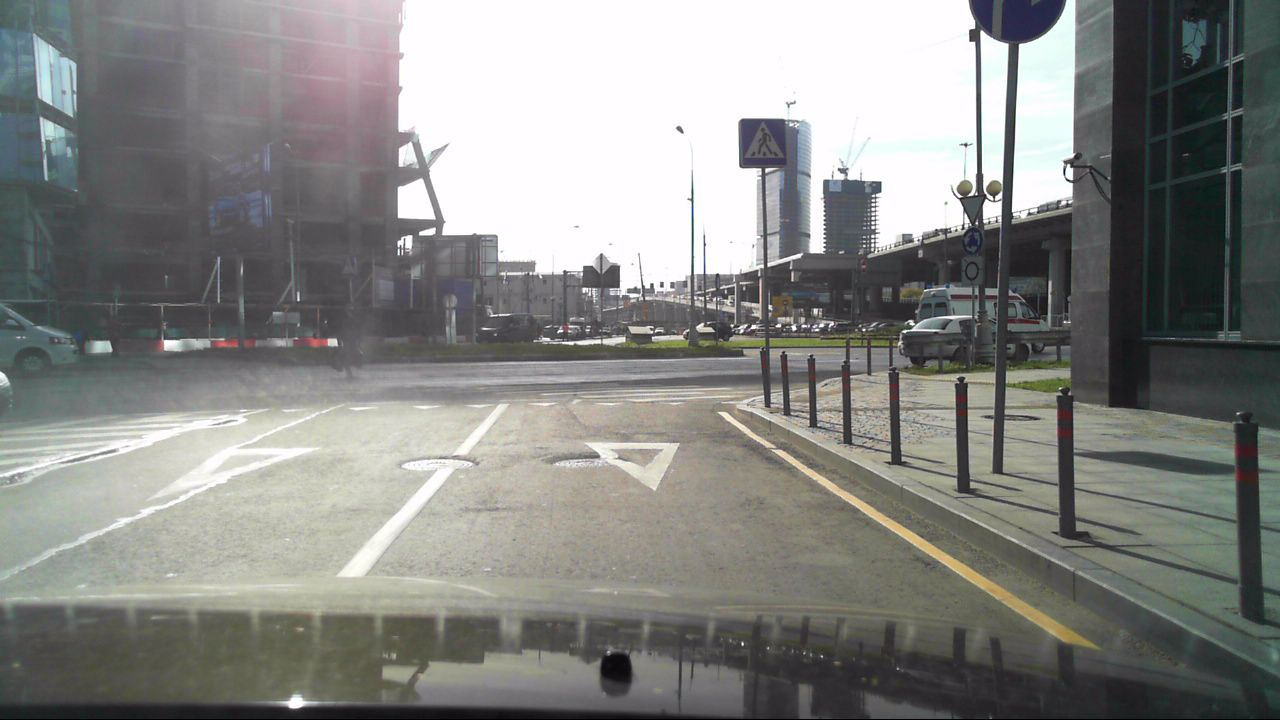Round-About: (959, 226, 984, 254)
